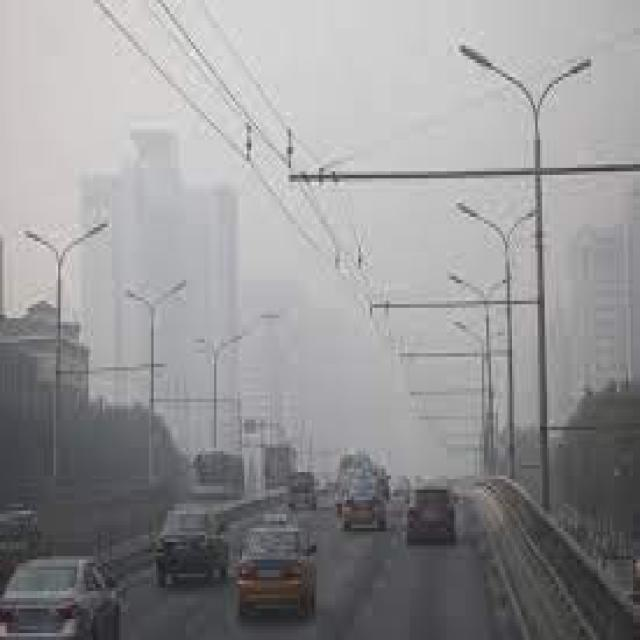moderate_traffic: (9, 436, 502, 640)
